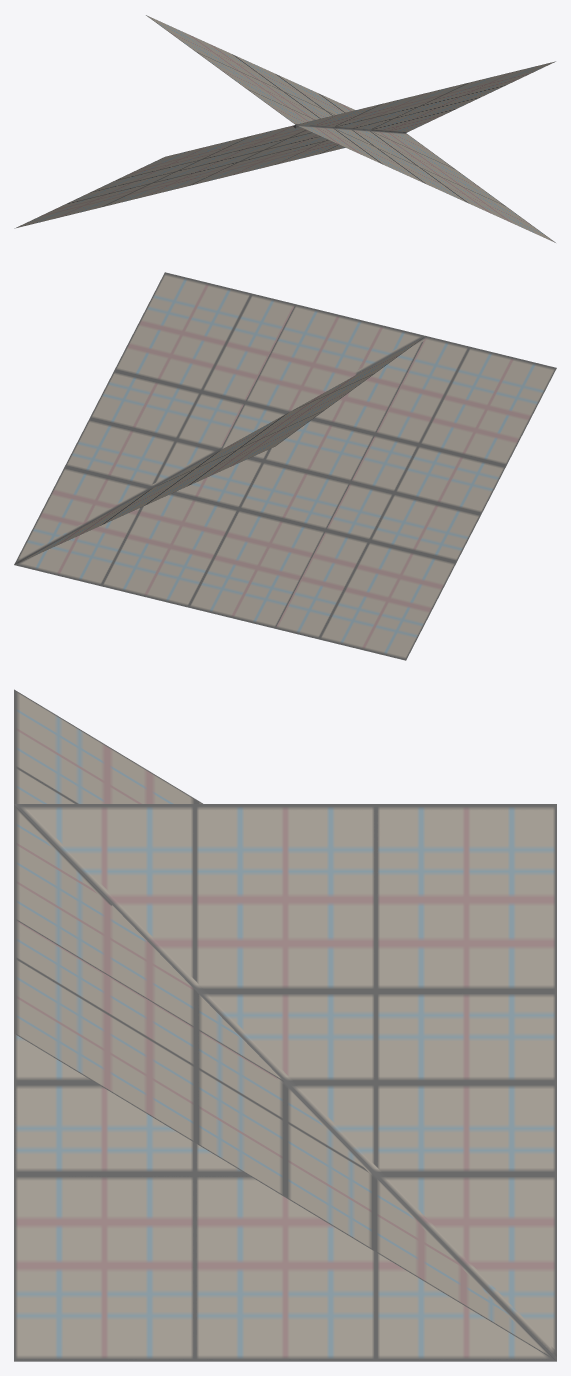
File: LevelPieces.FBX
3 renders of one model, top to bottom at view 1: azimuth 30°, elevation 25°; view 2: azimuth 150°, elevation 25°; view 3: azimuth 270°, elevation 25°, orthographic. The views are drawn at different scales.
Parts seen in each view (by area): view 1: Roof.flat.tiltconvex, Roof.flat.tiltside, Roof.flat.tiltcorner; view 2: Roof.flat.tiltside, Roof.flat.tiltconvex, Roof.flat.tiltcorner; view 3: Roof.flat.tiltconvex, Roof.flat.tiltcorner, Roof.flat.tiltside.
Boxes of the visible parts, <box> form: Roof.flat.tiltconvex: <box>146,15,555,132</box>; Roof.flat.tiltside: <box>14,116,331,228</box>; Roof.flat.tiltcorner: <box>276,125,555,242</box>; Roof.flat.tiltside: <box>220,304,556,660</box>; Roof.flat.tiltconvex: <box>14,272,425,564</box>; Roof.flat.tiltcorner: <box>14,336,425,628</box>; Roof.flat.tiltconvex: <box>14,804,556,1361</box>; Roof.flat.tiltcorner: <box>14,1034,556,1361</box>; Roof.flat.tiltside: <box>14,689,283,1081</box>.
Bounding box in the file's own units: 450 × 200 × 300.
1 material, 1 textured.
